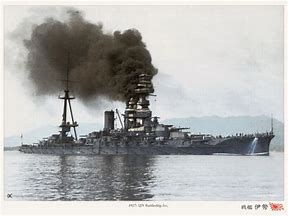smoke: (22, 13, 158, 101)
